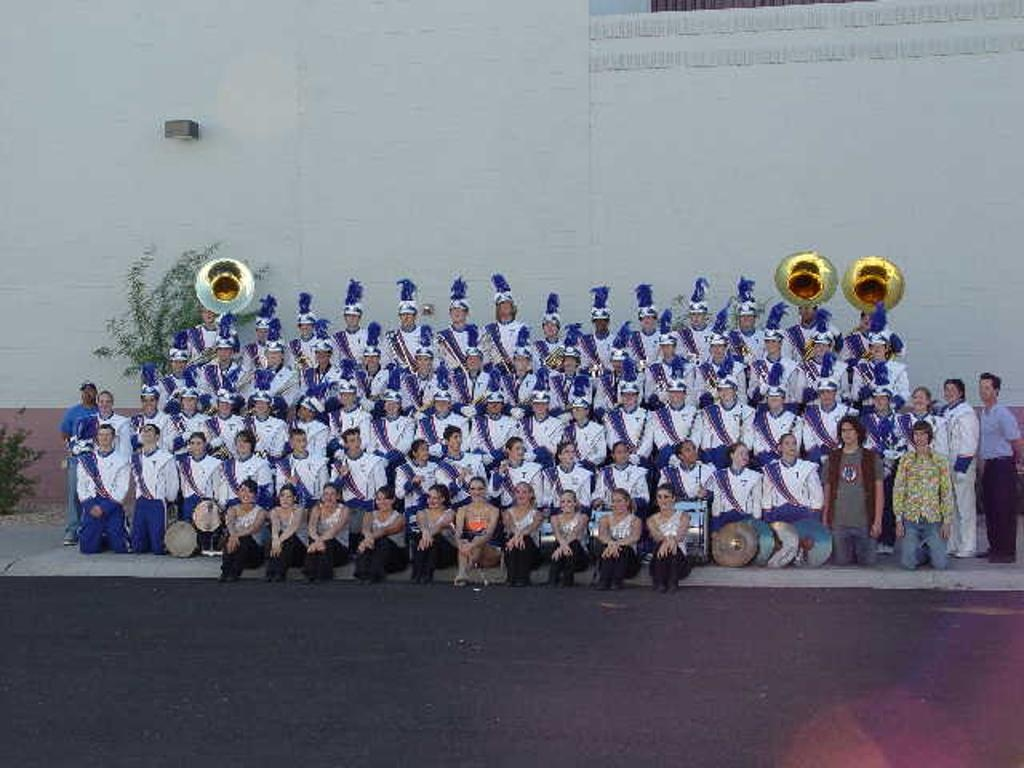human_face: (867, 342, 885, 364), (840, 420, 856, 444), (978, 377, 992, 401), (680, 442, 696, 462), (657, 489, 673, 509), (98, 392, 114, 412), (612, 442, 626, 464), (468, 478, 482, 500), (734, 443, 748, 465), (942, 382, 958, 400), (426, 486, 440, 506), (509, 440, 523, 460), (560, 492, 574, 512), (622, 390, 636, 410), (718, 383, 732, 403), (818, 386, 832, 406), (782, 435, 796, 455), (610, 494, 626, 511), (912, 388, 924, 410), (385, 396, 399, 414), (543, 319, 557, 337), (514, 353, 528, 371), (561, 445, 575, 463), (514, 484, 528, 502), (860, 310, 874, 328), (874, 393, 888, 411), (912, 427, 926, 445), (236, 434, 250, 452), (293, 432, 307, 450), (375, 490, 389, 508), (435, 398, 447, 418), (563, 353, 575, 373), (238, 483, 250, 503), (323, 485, 335, 505), (448, 430, 460, 449), (398, 308, 412, 324), (532, 398, 546, 414), (798, 304, 812, 320), (764, 336, 778, 352), (814, 340, 828, 356), (139, 424, 153, 440), (182, 392, 194, 410), (142, 393, 154, 411), (98, 426, 110, 444), (348, 433, 360, 451), (280, 486, 290, 506), (344, 311, 358, 325), (640, 315, 654, 329), (364, 352, 378, 366), (450, 305, 462, 321), (740, 312, 752, 328), (712, 342, 724, 358), (190, 437, 202, 453), (81, 384, 93, 400), (340, 388, 352, 404), (466, 352, 476, 370), (299, 401, 309, 418), (496, 300, 508, 314), (594, 317, 606, 331), (488, 398, 500, 412), (572, 404, 584, 418), (690, 310, 702, 324), (660, 342, 672, 356), (670, 388, 682, 402), (768, 394, 780, 408), (416, 352, 428, 366), (417, 443, 427, 459), (219, 398, 229, 414), (202, 309, 214, 321), (256, 326, 268, 338), (300, 320, 310, 334), (266, 351, 276, 365), (216, 346, 226, 360), (172, 357, 182, 371), (255, 398, 265, 412), (316, 350, 326, 362), (612, 357, 620, 371)
